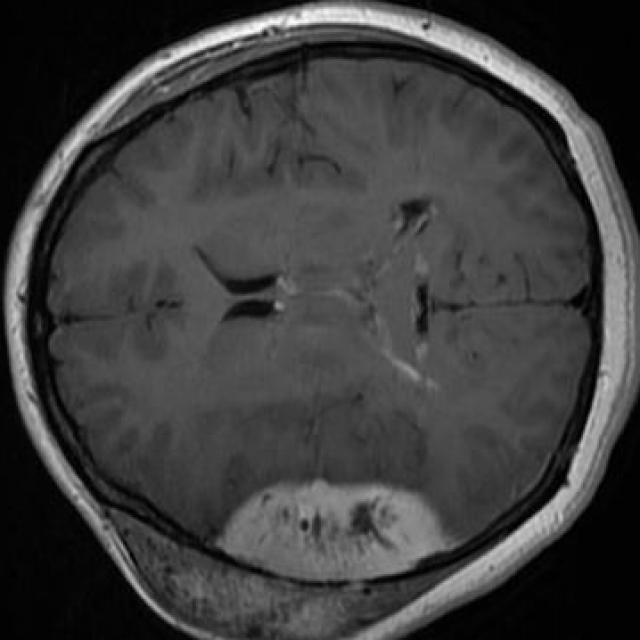meningioma: (103, 480, 460, 640)
